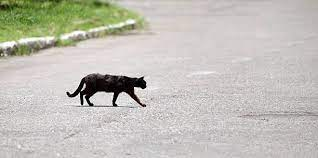cat: (65, 72, 148, 109)
